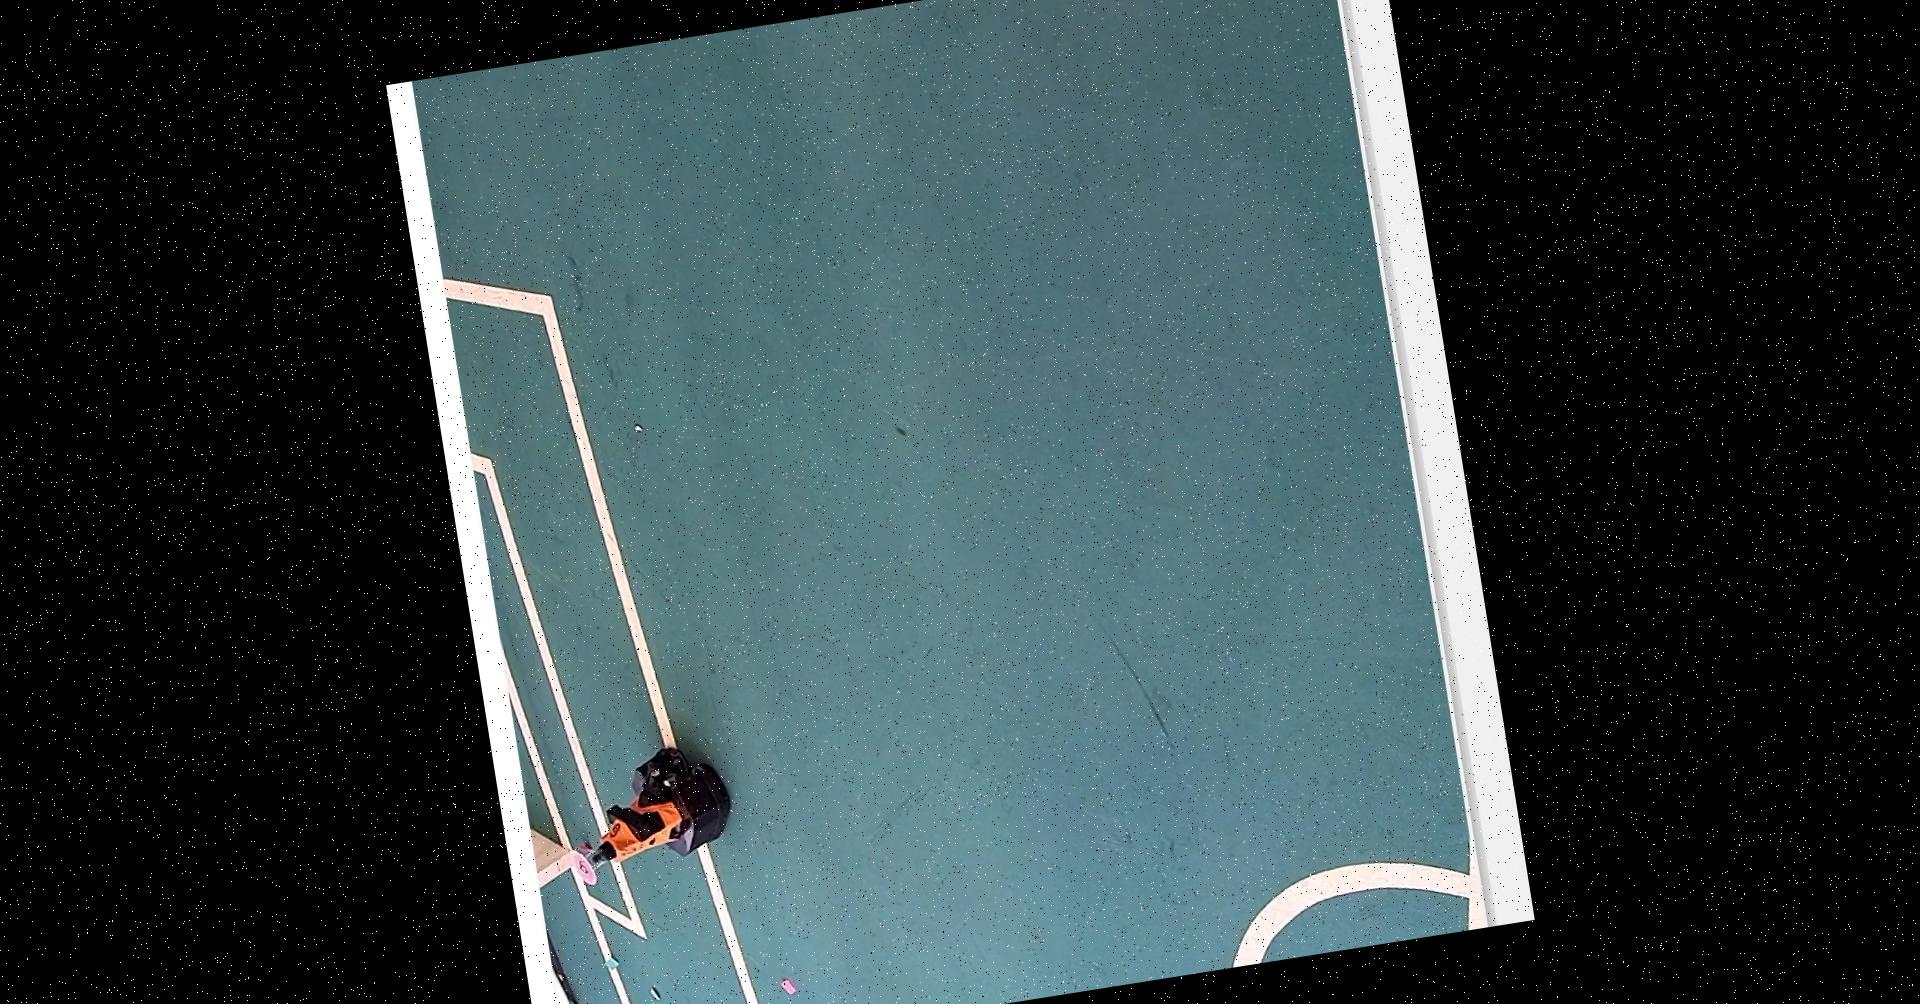Team_Red: (551, 743, 744, 891)
